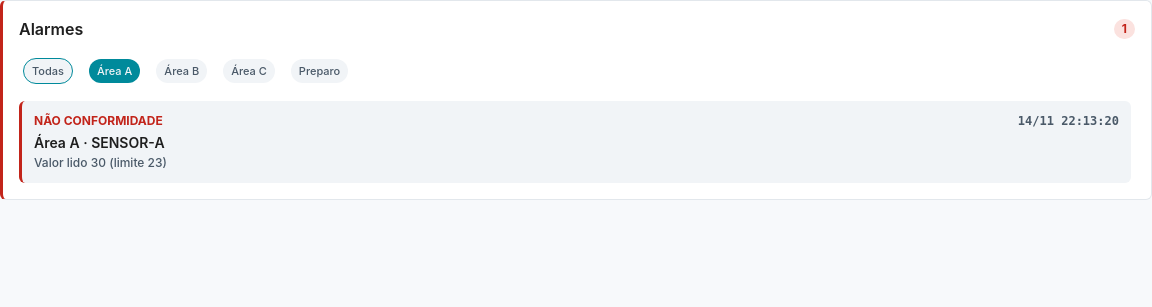
Test: AlarmsWidget › clicar chip inativo (c) passa a mostrar alarmes de c
The image size is (1152, 307).
Expected: the text "SENSOR-C" is not shown
Click the button "Área C".
click(249, 71)  # box [219,53,279,89]
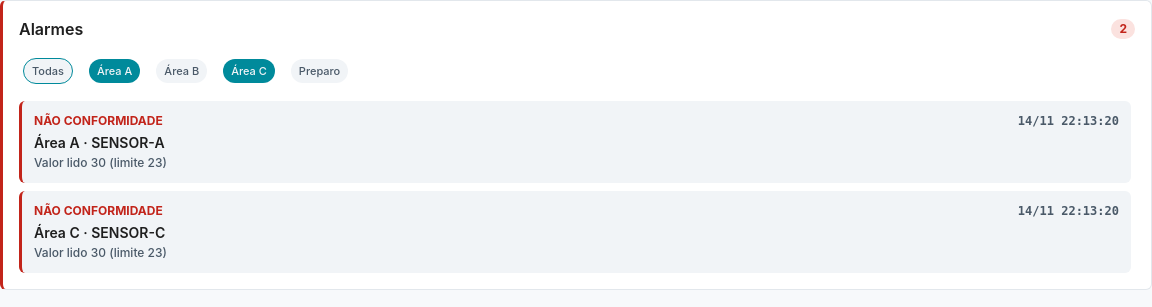
Now the text "Área C · SENSOR-C" is shown, box [34,224,165,241]
